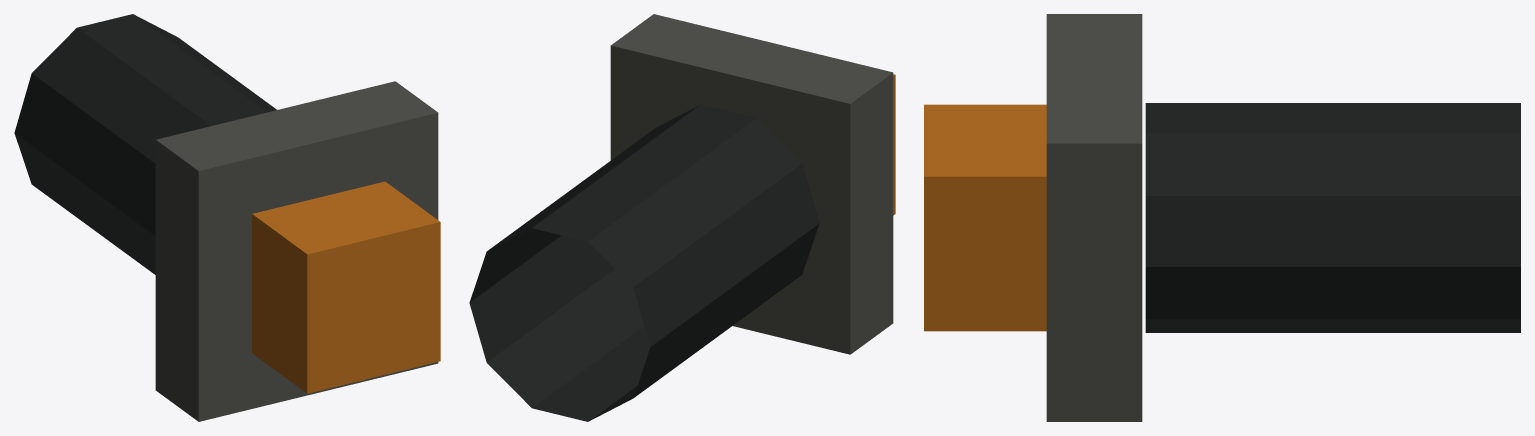
The model's file is SM_MoriaBrazier.obj.
The picture shows the model from 3 angles, left to right: view 1: azimuth 30°, elevation 25°; view 2: azimuth 150°, elevation 25°; view 3: azimuth 270°, elevation 25°; orthographic projection. The views are drawn at different scales.
Parts seen in each view (by area): view 1: SM_MoriaBrazier; view 2: SM_MoriaBrazier; view 3: SM_MoriaBrazier.
Boxes of the visible parts, box(x1,y1,x2,y2) form: SM_MoriaBrazier: box(14, 14, 440, 421); SM_MoriaBrazier: box(469, 14, 895, 421); SM_MoriaBrazier: box(924, 14, 1520, 421).
Size of the model in its own units: 90 by 90 by 175.
